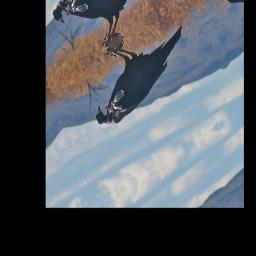Crow: (75, 5, 202, 136)
